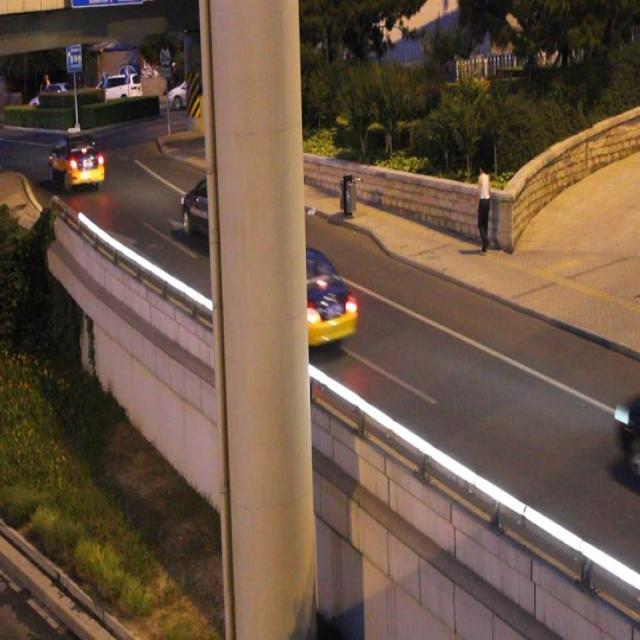car: (246, 250, 356, 343), (182, 177, 240, 240), (50, 137, 105, 185), (614, 392, 640, 463)
